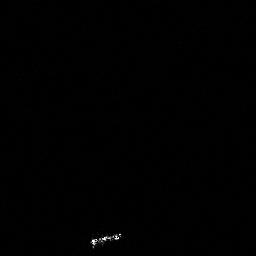ship: (90, 232, 122, 246)
